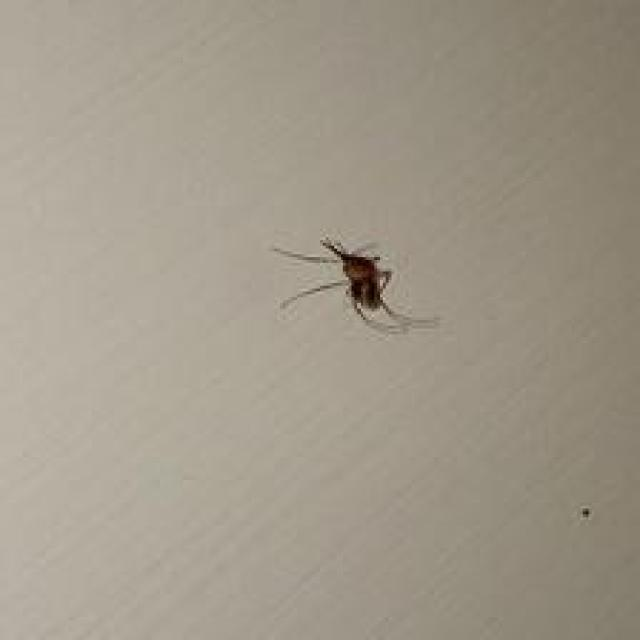Culex: (270, 236, 441, 336)
